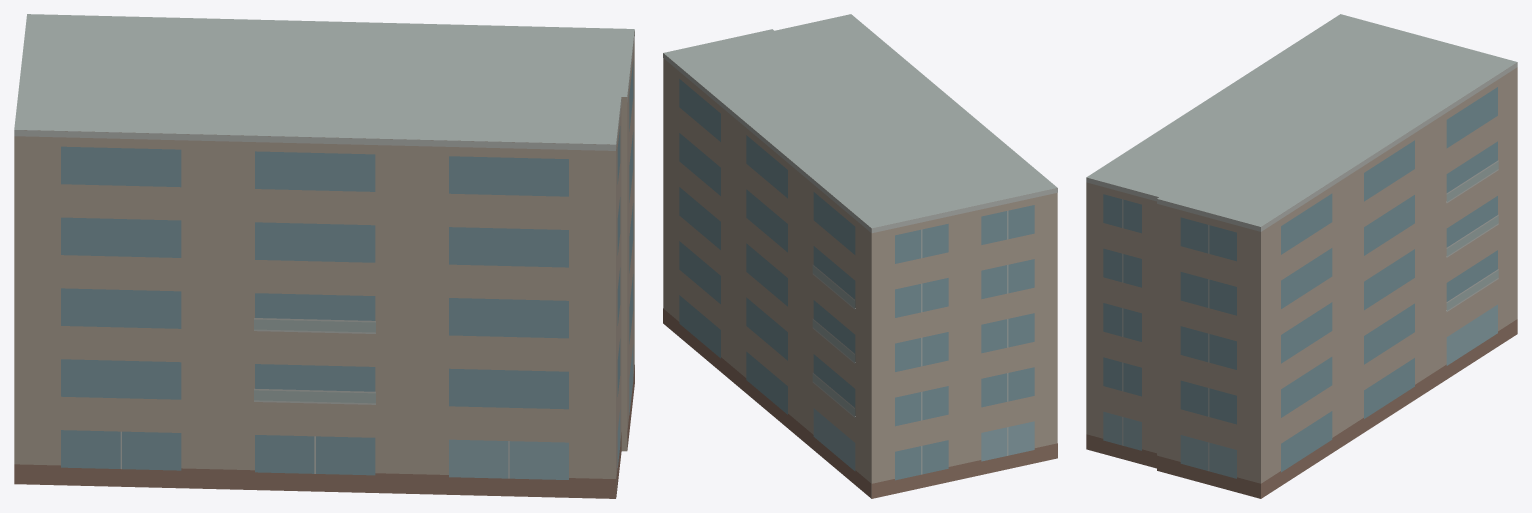
Rendered from survey-upis-32627028.glb.
3 renders of one model, left to right at view 1: azimuth 30°, elevation 25°; view 2: azimuth 150°, elevation 25°; view 3: azimuth 270°, elevation 25°, orthographic. The views are drawn at different scales.
Parts seen in each view (by area): view 1: survey-upis-32627028.tmp; view 2: survey-upis-32627028.tmp; view 3: survey-upis-32627028.tmp.
Part boxes in pixels (x1,y1,x2,y2): survey-upis-32627028.tmp: (14,14,634,498); survey-upis-32627028.tmp: (663,14,1057,498); survey-upis-32627028.tmp: (1086,14,1517,498).
Size of the model in its own units: 22.69 by 13.5 by 19.42.
